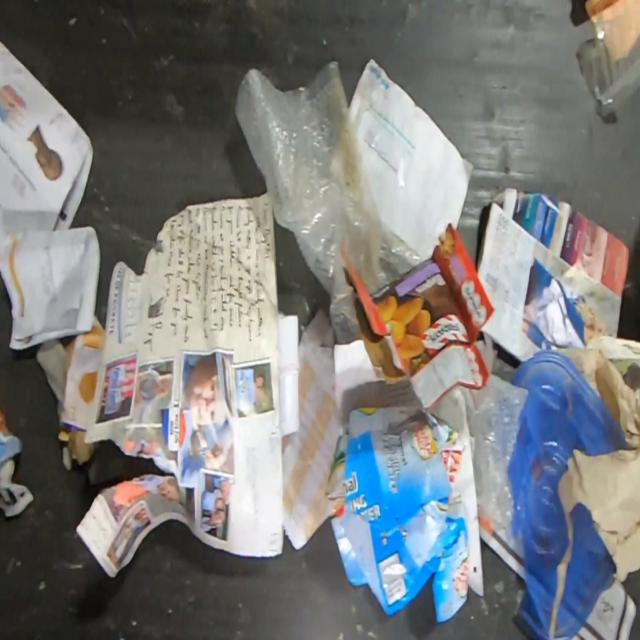cardboard: (328, 405, 468, 622), (350, 226, 494, 412), (475, 192, 631, 360), (586, 333, 640, 411)
rigid_plastic: (507, 347, 627, 638), (578, 1, 640, 118)
soft_plastic: (233, 59, 432, 347), (460, 331, 529, 532)
